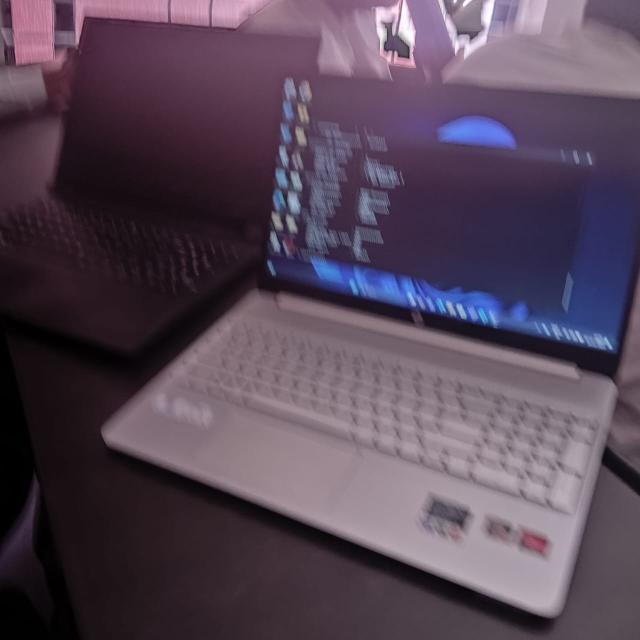laptop: (133, 71, 640, 589), (2, 26, 250, 310)
